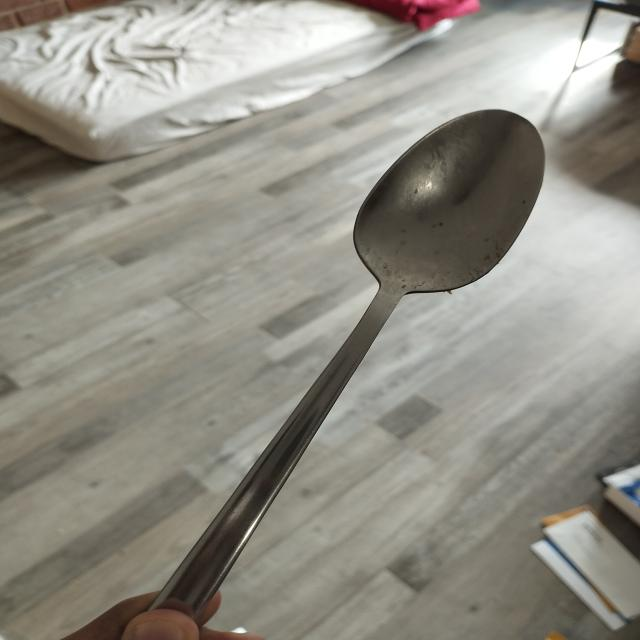Spoon: (98, 101, 588, 596)
